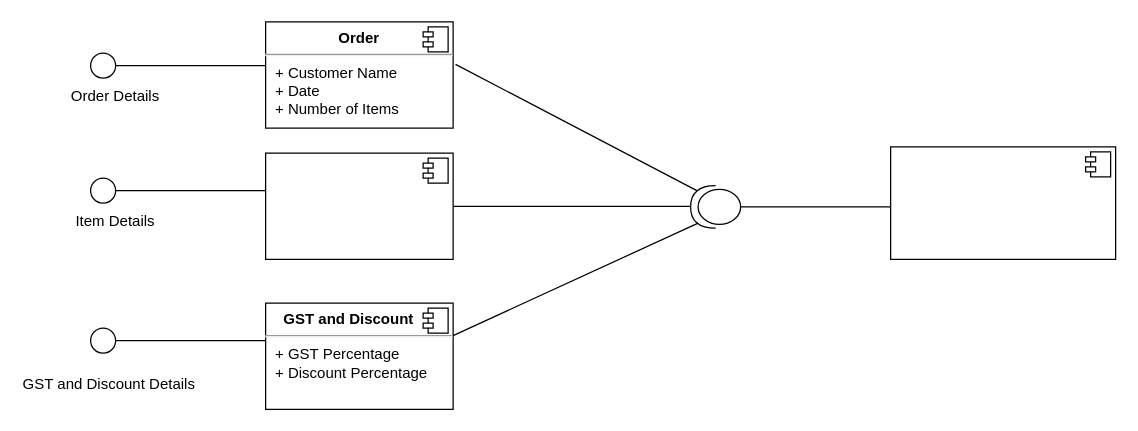
Some shapes in this 1138 by 431 pixel diagram are drawn without their labels. The box of each missing label's shape, as (x1, y1, x2, y2) in pixels:
Invoice + Customer Details + Total Amount: (889, 146, 1116, 259)
Item + Item Name + Quantity + Unit Price: (264, 152, 453, 259)
